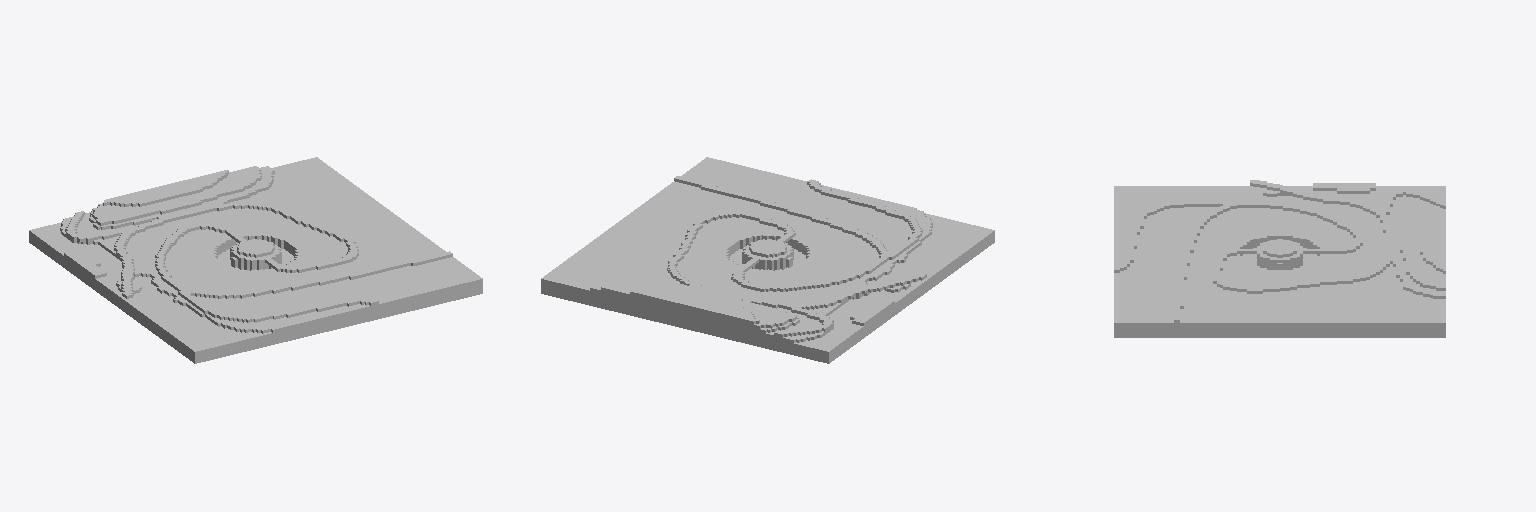
The model's file is Map 1.obj.
3 renders of one model, left to right at view 1: azimuth 30°, elevation 25°; view 2: azimuth 150°, elevation 25°; view 3: azimuth 270°, elevation 25°, orthographic.
Parts seen in each view (by area): view 1: object 1; view 2: object 1; view 3: object 1.
Part boxes in pixels (x1,y1,x2,y2): object 1: (29, 157, 482, 363); object 1: (541, 157, 994, 363); object 1: (1114, 180, 1445, 337).
Size of the model in its own units: 10 by 0.8 by 10.